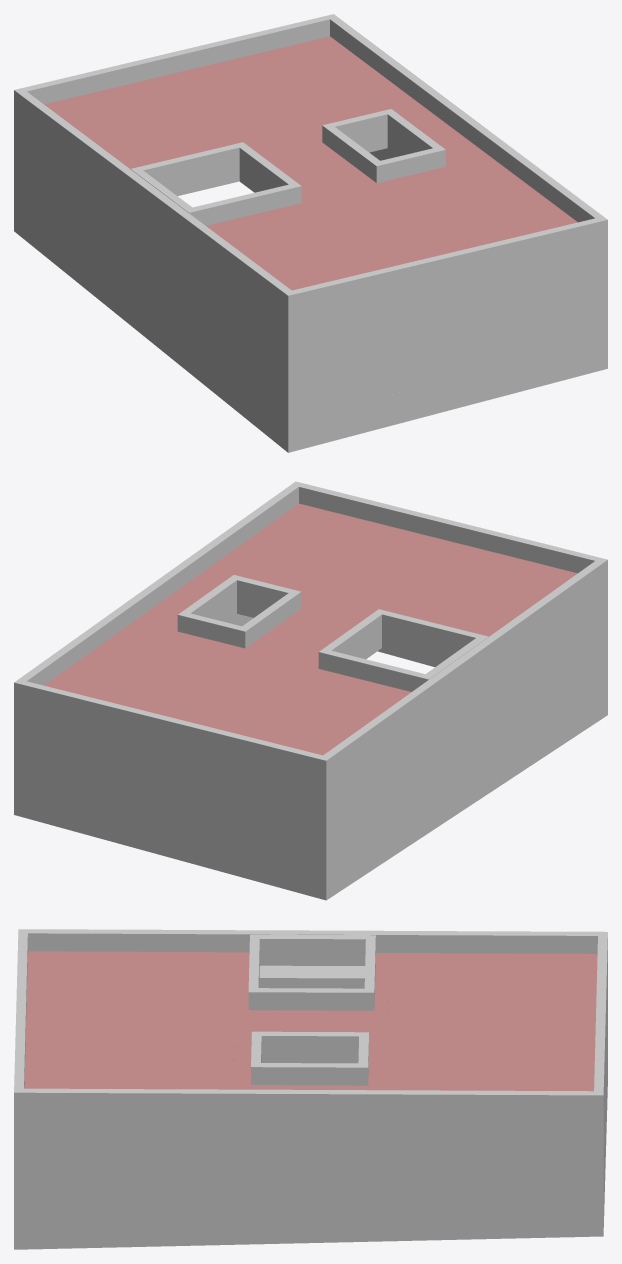
The model's file is LOD_Block_4_45.glb.
3 views of the same model, one above another, from view 1: azimuth 30°, elevation 25°; view 2: azimuth 150°, elevation 25°; view 3: azimuth 270°, elevation 25° (orthographic). The views are drawn at different scales.
Visible parts, largest first — view 1: mesh_CityEngineMaterial_679; view 2: mesh_CityEngineMaterial_679; view 3: mesh_CityEngineMaterial_679.
Boxes of the visible parts, x1,y1,x2,y2 form: mesh_CityEngineMaterial_679: (14,14,607,452); mesh_CityEngineMaterial_679: (14,481,607,900); mesh_CityEngineMaterial_679: (14,929,607,1249).
Bounding box in the file's own units: 19.92 × 9.26 × 30.08.
